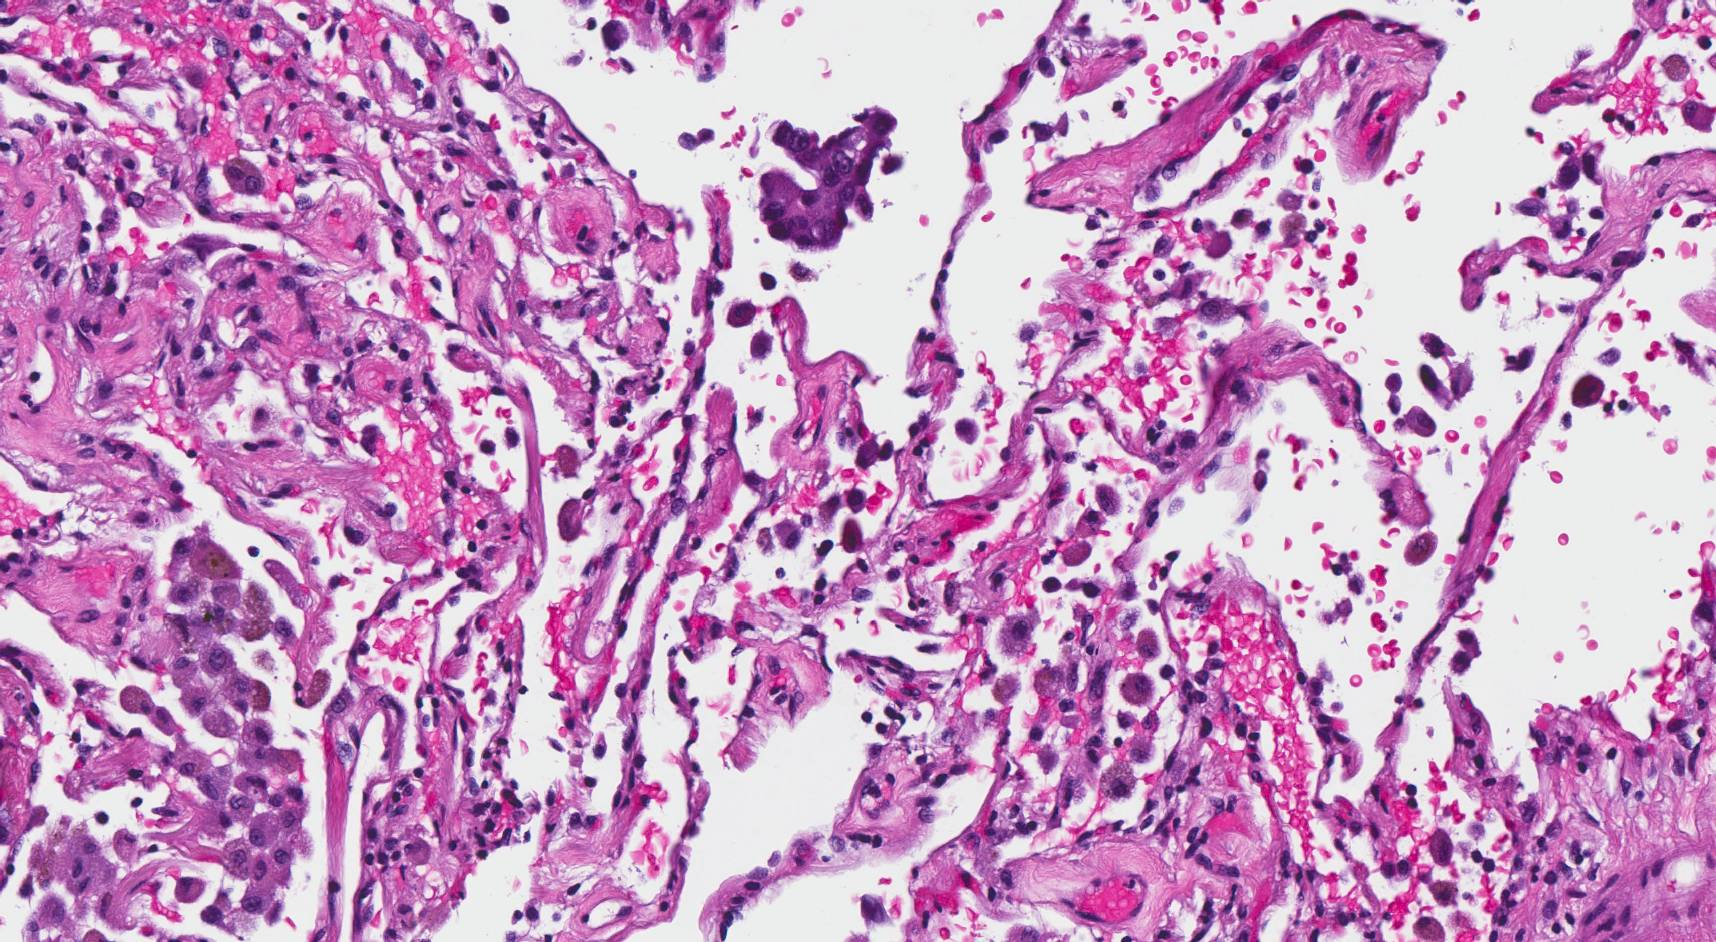stas: (755, 107, 900, 251)
